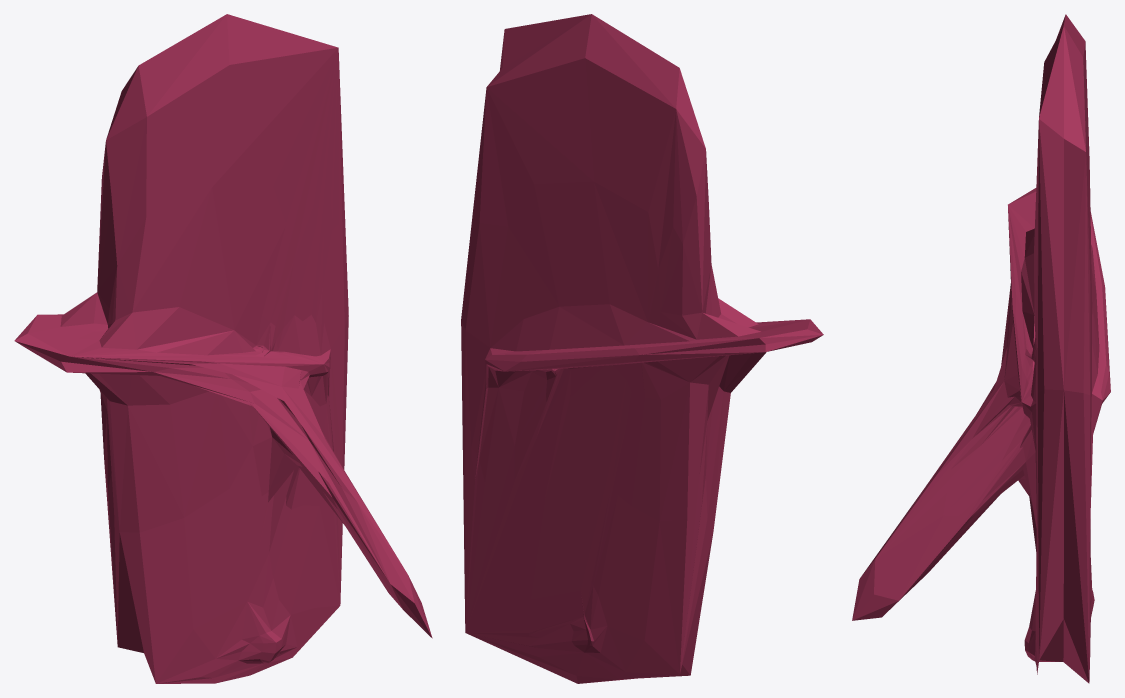
3 views of the same model, side by side, from view 1: azimuth 30°, elevation 25°; view 2: azimuth 150°, elevation 25°; view 3: azimuth 270°, elevation 25° (orthographic). The views are drawn at different scales.
Parts seen in each view (by area): view 1: 293_Cube.1196; view 2: 293_Cube.1196; view 3: 293_Cube.1196.
Part boxes in pixels (x1,y1,x2,y2): 293_Cube.1196: (14, 14, 432, 683); 293_Cube.1196: (461, 14, 823, 683); 293_Cube.1196: (852, 14, 1110, 683).
Size of the model in its own units: 6.42 by 11.89 by 4.39.
